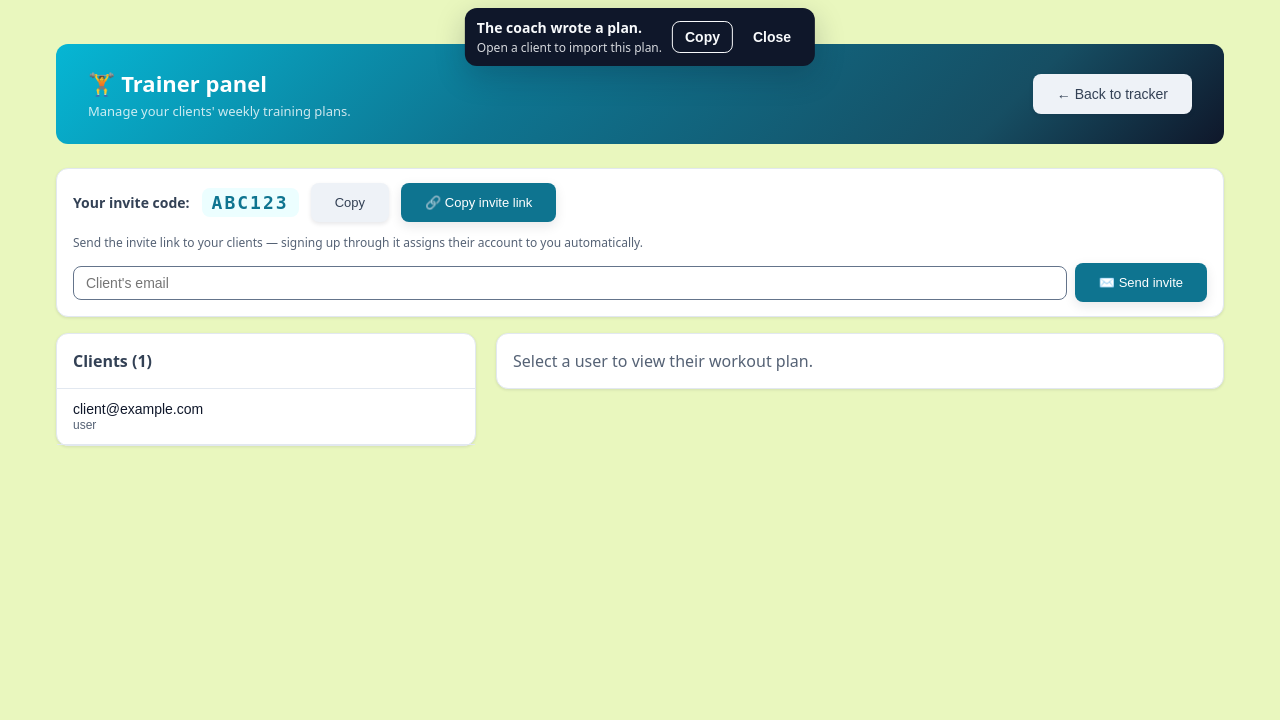
AdminDashboard import plan › shows the coach plan bar and imports it into the open client
Expected: the text "Open a client to import this plan." is shown, [477,39,662,56]
Click the text "client@example.com" at (138, 409), box [73,401,203,417]
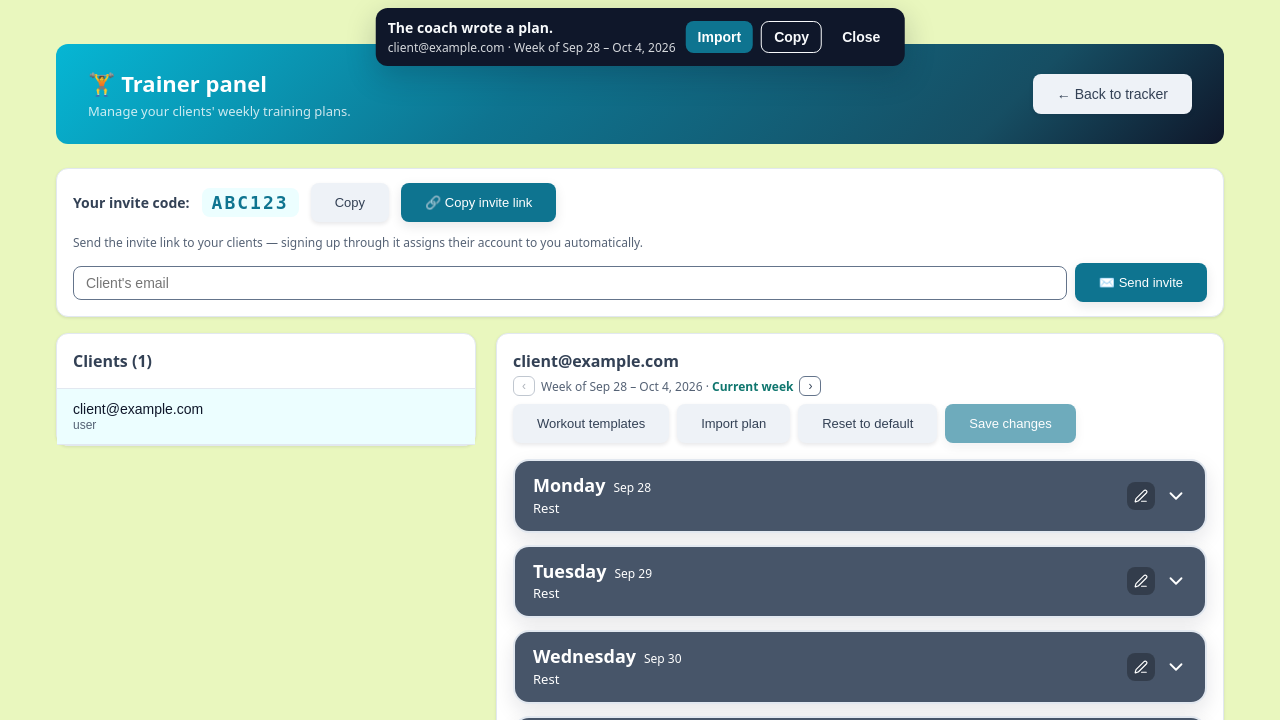
Expected: the button "Import plan" is shown, [677,404,790,443]
Expected: the text "client@example.com · Week of Sep 28 – Oct 4, 2026" is shown, [388,39,676,56]
Click the button "Import" at (719, 37), box [686,21,753,53]
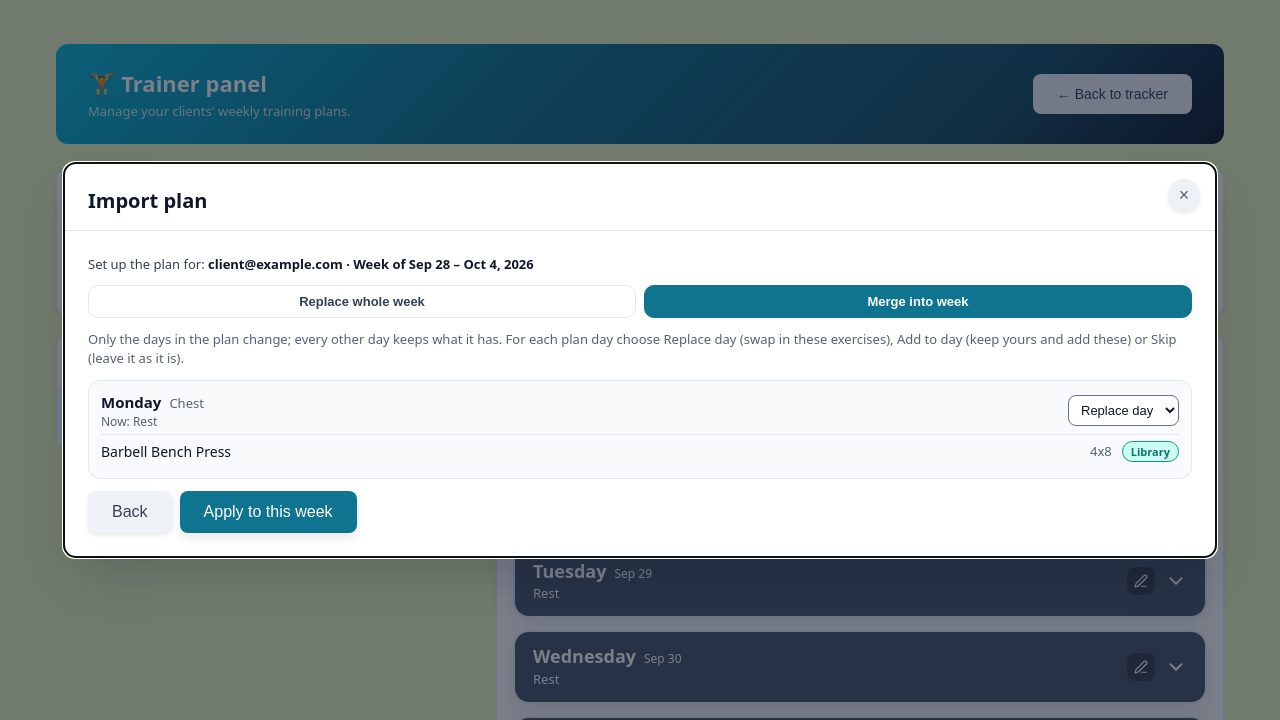
Expected: the text "client@example.com · Week of Sep 28 – Oct 4, 2026" is shown, [208,255,534,273]
Expected: the text "Barbell Bench Press" is shown, [101,442,231,461]
